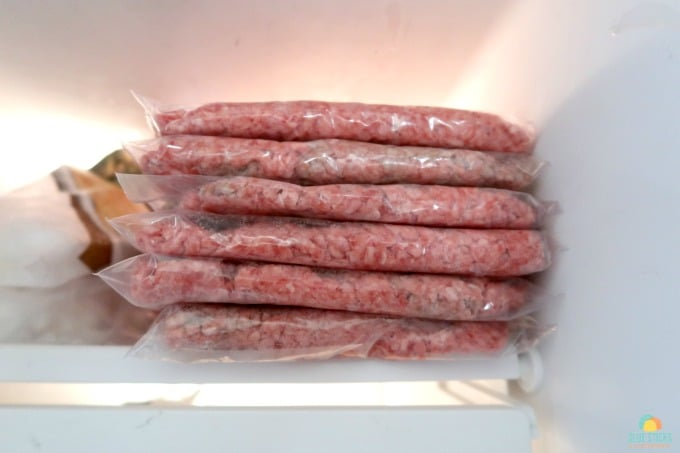ground_beef: (124, 92, 532, 371)
